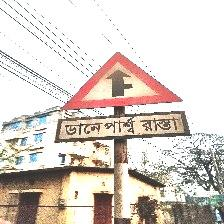Side-road-right: (57, 51, 189, 142)
